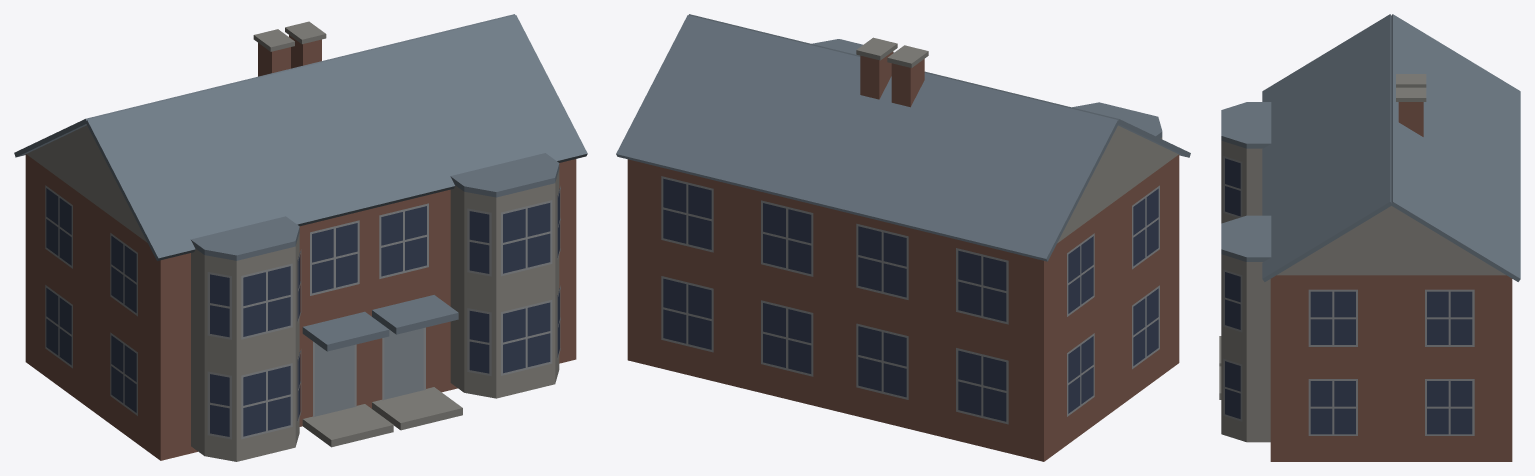
File: civic_semi_lvl1.glb
3 renders of one model, left to right at view 1: azimuth 30°, elevation 25°; view 2: azimuth 150°, elevation 25°; view 3: azimuth 270°, elevation 25°, orthographic. The views are drawn at different scales.
Parts seen in each view (by area): view 1: civic_semi; view 2: civic_semi; view 3: civic_semi.
Part boxes in pixels (box(x1,y1,x2,y2)): civic_semi: box(14, 14, 587, 461); civic_semi: box(616, 14, 1190, 461); civic_semi: box(1219, 14, 1520, 461).
Size of the model in its own units: 1 by 0.7087 by 0.6792.
